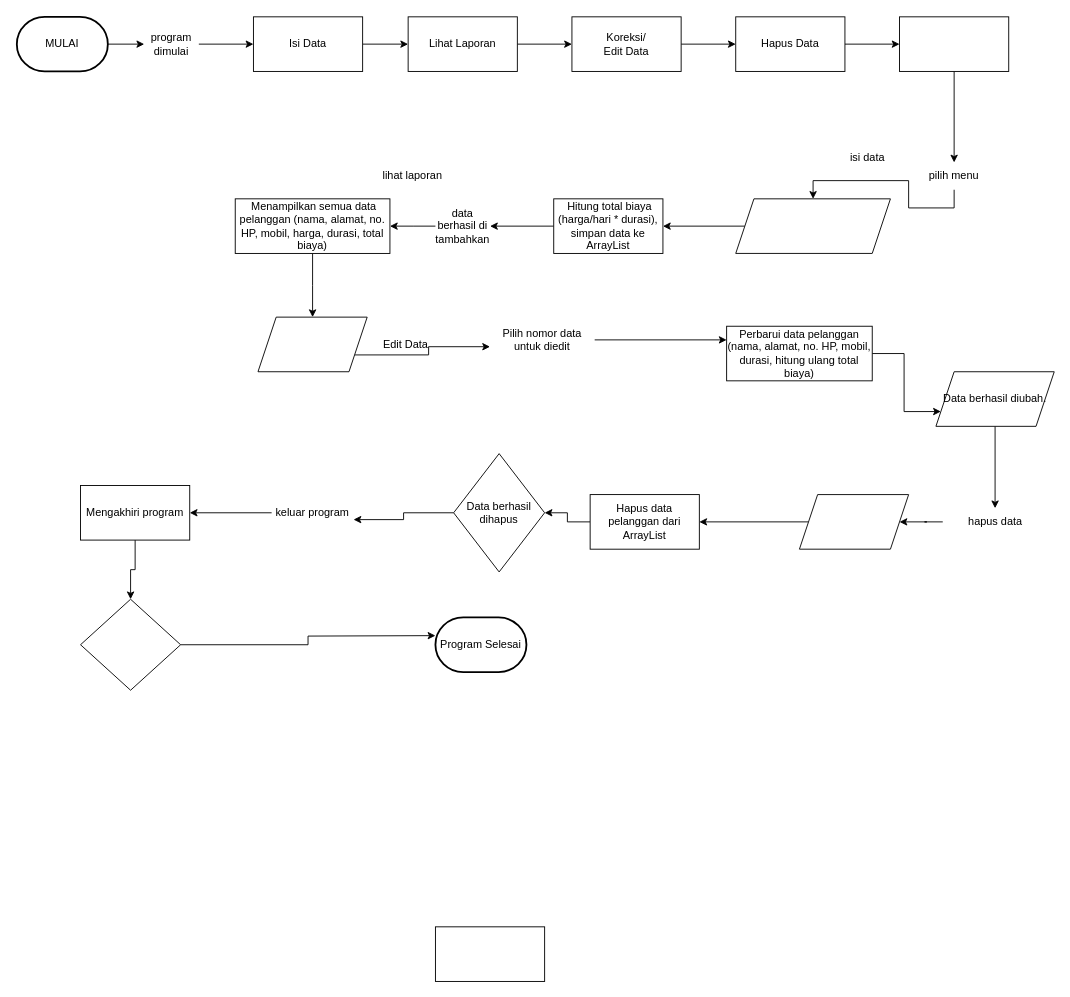
This 1070x997 diagram has some shape labels left out. The shapes that lost their labels are listed below. From the top down, each one's centre as x and y in pixels, then its label:
the point at 954,43: Keluar
the point at 812,225: Masukkan Nama, Alamat, No. HP, dan Pilihan Mobil,durasi sewa
the point at 312,344: Total Pendapatan.
the point at 854,521: Pilih nomor data untuk dihapus
the point at 130,644: Jika Ya, kembali ke Menu Utama. Jika Tidak, program selesai.
the point at 490,953: Hitung Total Biaya
